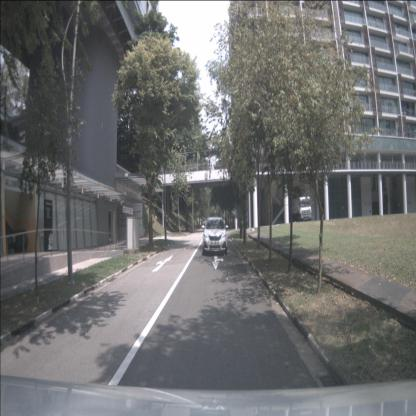vehicle-car: (203, 217, 228, 254), (202, 219, 208, 228)
vehicle-truck: (290, 195, 312, 221)
